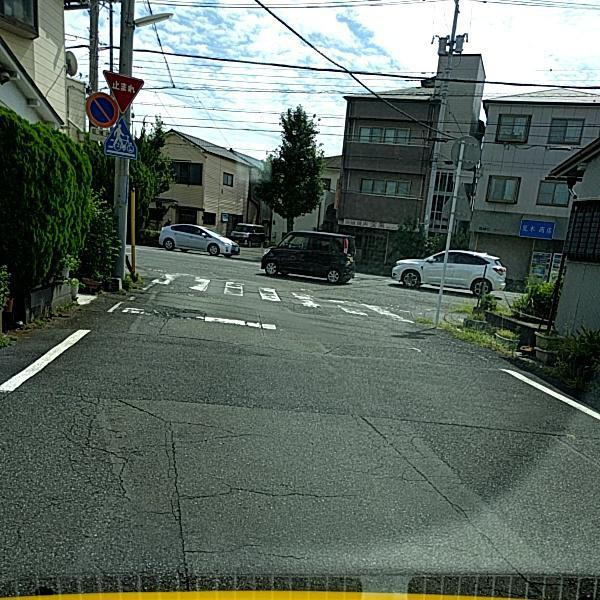D10: (182, 480, 357, 508), (164, 415, 270, 442), (186, 540, 299, 565)
D20: (40, 362, 151, 508), (367, 429, 460, 489)
D43: (146, 277, 396, 330)
